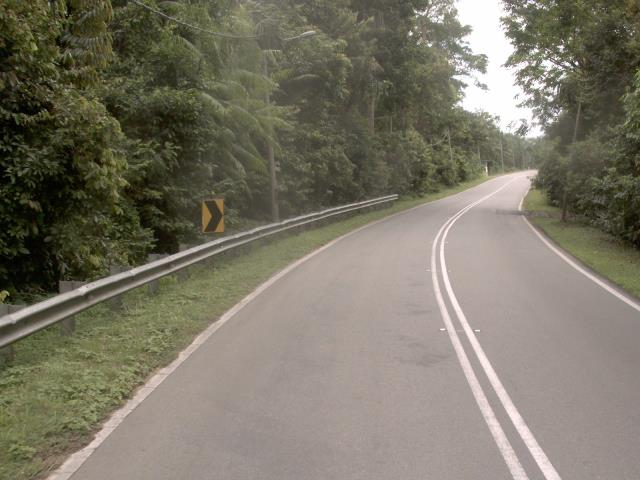traffic_sign: (192, 189, 231, 242)
